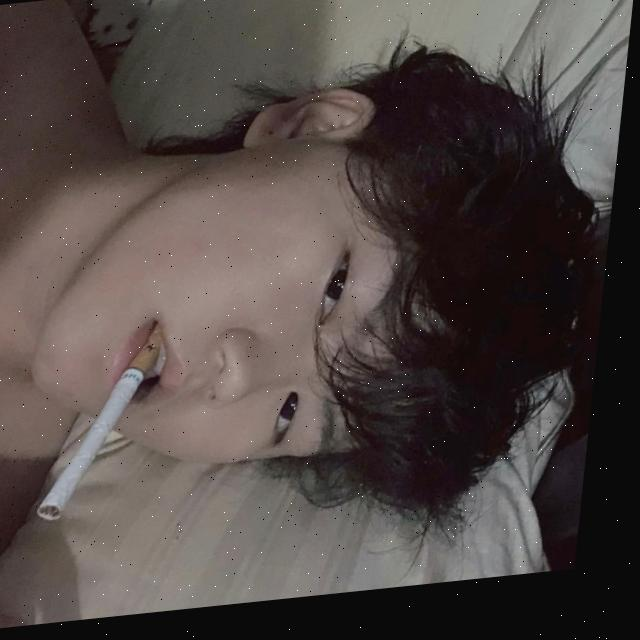cigarette: (47, 327, 171, 525)
